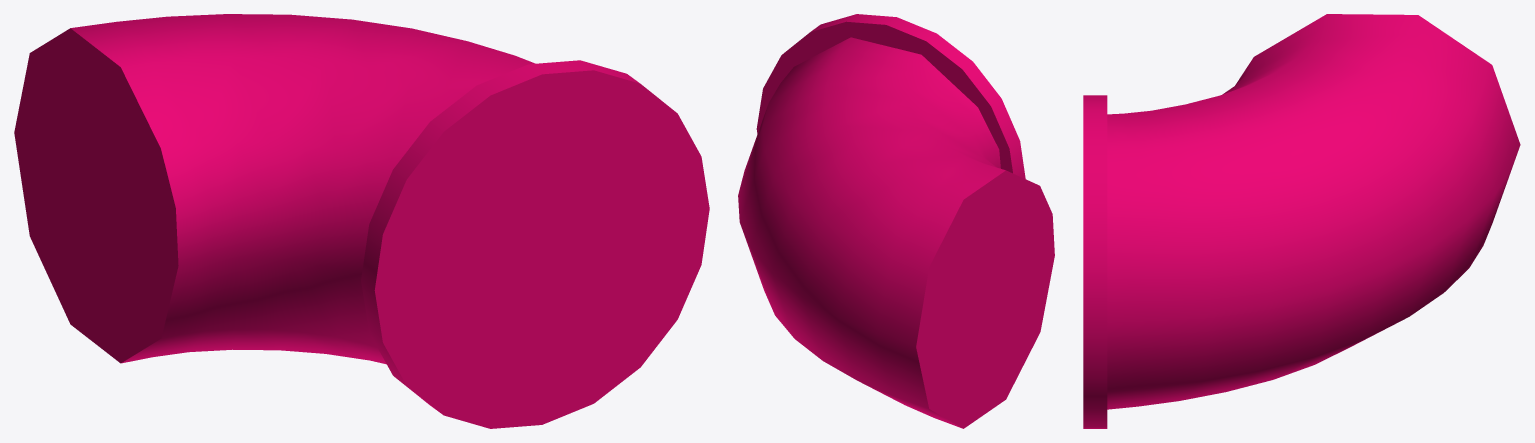
Rendered from Air_Duct_01_Turn_Lod0.fbx.
3 views of the same model, side by side, from view 1: azimuth 30°, elevation 25°; view 2: azimuth 150°, elevation 25°; view 3: azimuth 270°, elevation 25° (orthographic). The views are drawn at different scales.
Visible parts, largest first — view 1: Air_Duct_01_Turn_Lod0; view 2: Air_Duct_01_Turn_Lod0; view 3: Air_Duct_01_Turn_Lod0.
Boxes of the visible parts, x1,y1,x2,y2 form: Air_Duct_01_Turn_Lod0: (14, 14, 709, 428); Air_Duct_01_Turn_Lod0: (738, 14, 1054, 428); Air_Duct_01_Turn_Lod0: (1083, 14, 1520, 428).
Bounding box in the file's own units: 88.88 × 65.95 × 85.78.
